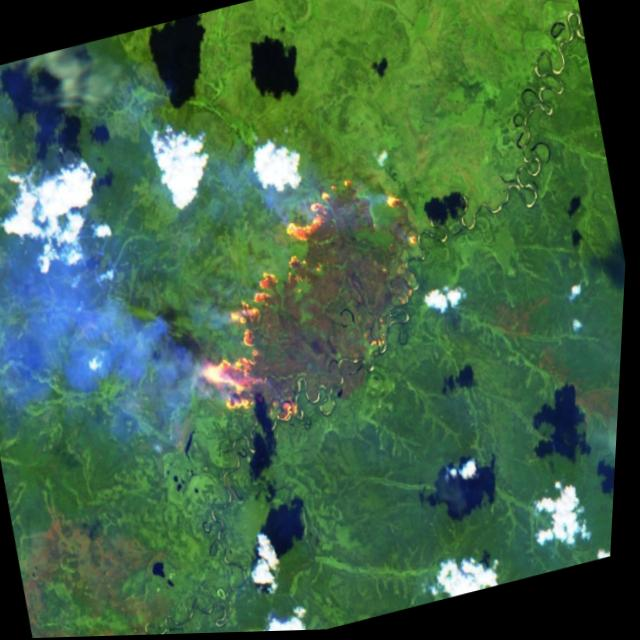fire: (178, 165, 459, 443)
